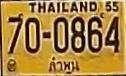0: (54, 16, 68, 52), (25, 17, 39, 52)
4: (104, 16, 118, 51)
6: (88, 16, 102, 52)
7: (8, 16, 23, 54)
8: (70, 16, 84, 52)
LPN: (47, 55, 81, 74)
